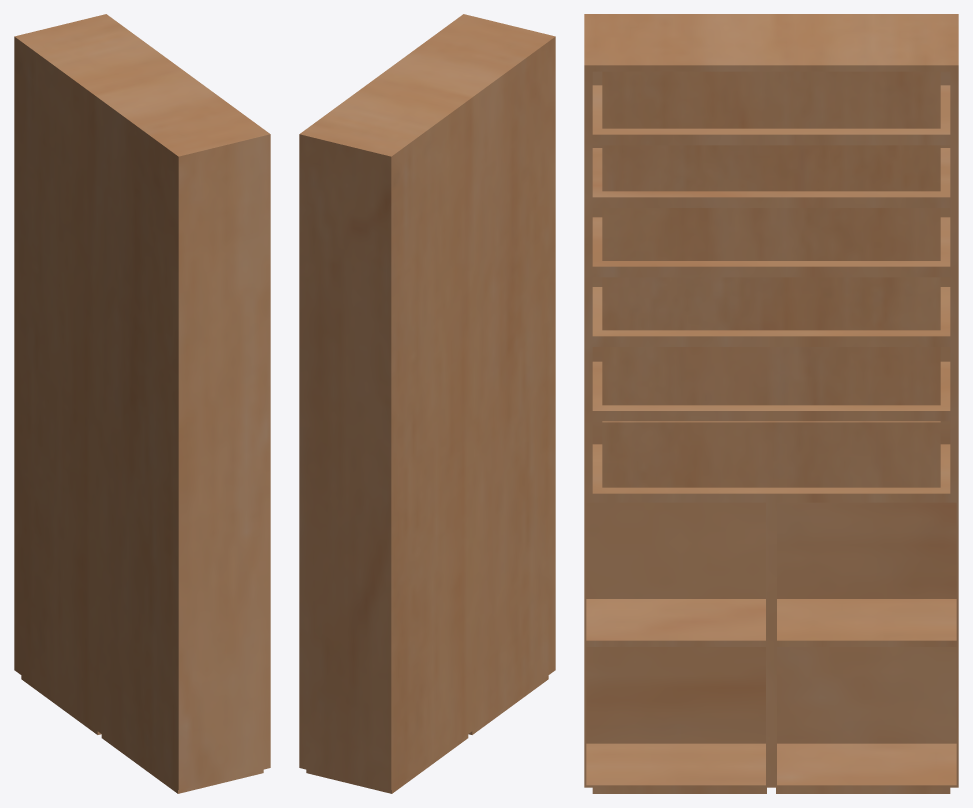
The model's file is Kirjahylly.fbx.
3 views of the same model, side by side, from view 1: azimuth 30°, elevation 25°; view 2: azimuth 150°, elevation 25°; view 3: azimuth 270°, elevation 25° (orthographic). The views are drawn at different scales.
Parts seen in each view (by area): view 1: Kirjahylly.001; view 2: Kirjahylly.001; view 3: Kirjahylly.001.
Part boxes in pixels (<box>): Kirjahylly.001: <box>14,14,270,793</box>; Kirjahylly.001: <box>299,14,555,793</box>; Kirjahylly.001: <box>584,14,958,793</box>.
Size of the model in its own units: 38.51 by 256 by 119.
